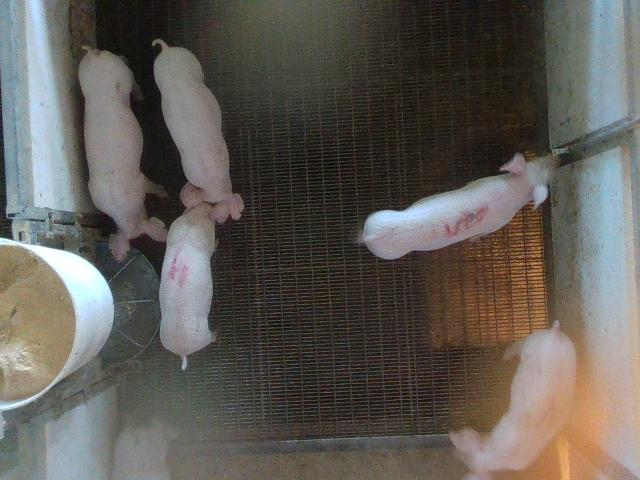pig-1: (450, 321, 576, 478)
pig-3: (362, 154, 559, 258)
pig-4: (160, 202, 215, 369)
